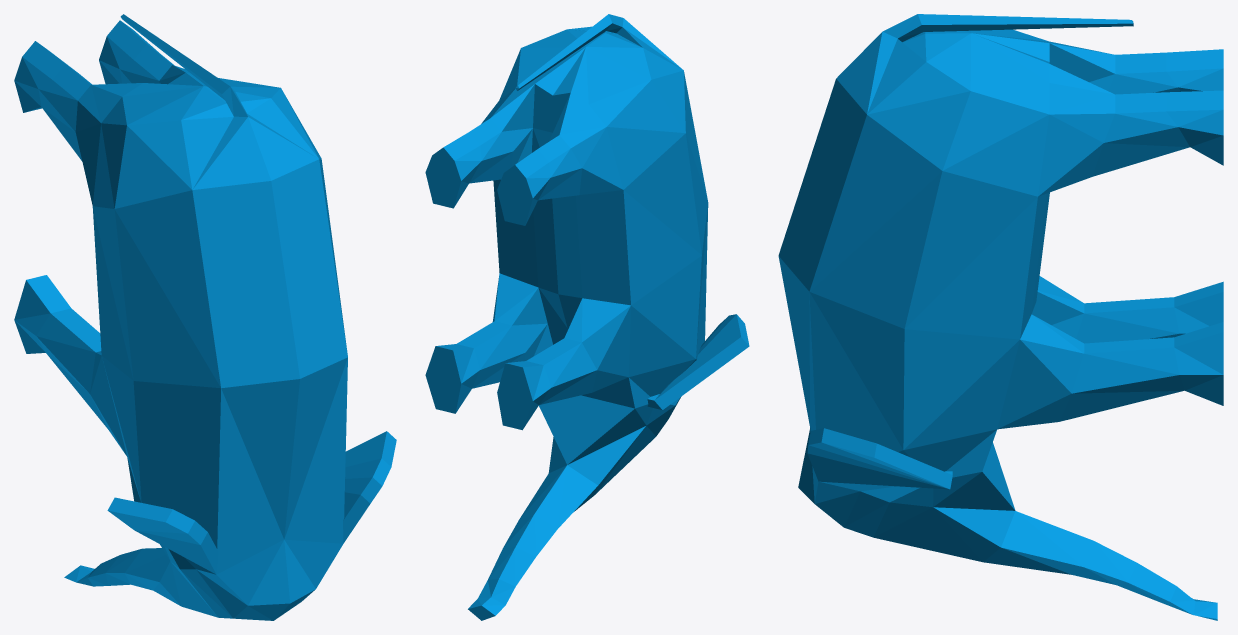
Rendered from Elephant_01.gltf.
3 renders of one model, left to right at view 1: azimuth 30°, elevation 25°; view 2: azimuth 150°, elevation 25°; view 3: azimuth 270°, elevation 25°, orthographic. The views are drawn at different scales.
Parts seen in each view (by area): view 1: node-0; view 2: node-0; view 3: node-0.
Part boxes in pixels (x1,y1,x2,y2): node-0: (14,14,396,620); node-0: (425,14,749,620); node-0: (778,14,1223,620).
Bounding box in the file's own units: 677 × 1357 × 902.
